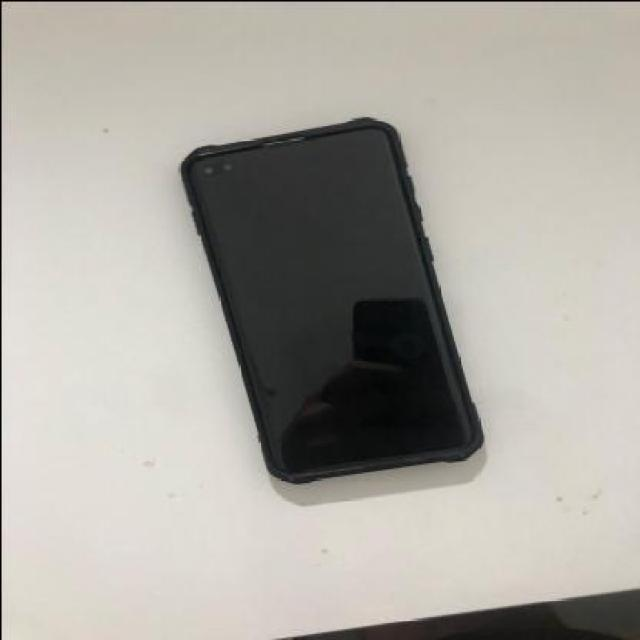phone: (178, 110, 478, 484)
